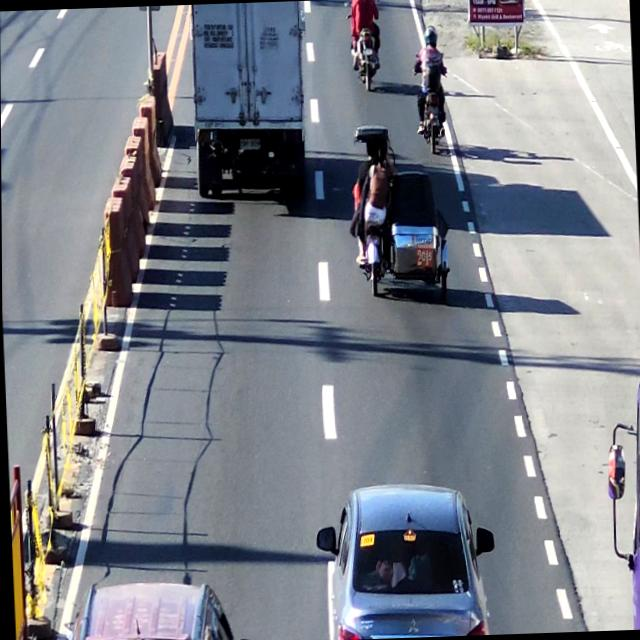Car: (321, 473, 483, 640), (31, 577, 272, 640)
Jeep: (601, 382, 640, 630)
License-Plate: (238, 135, 261, 154)
Motorcycle: (413, 28, 447, 152), (350, 0, 380, 79)
Tricycle: (348, 124, 451, 308)
Truck: (188, 1, 314, 198)
